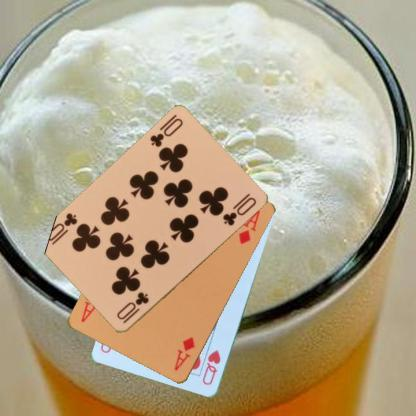10c: (114, 290, 150, 326), (147, 116, 184, 149)
Ad: (172, 335, 196, 372)
Qh: (200, 347, 222, 387)
